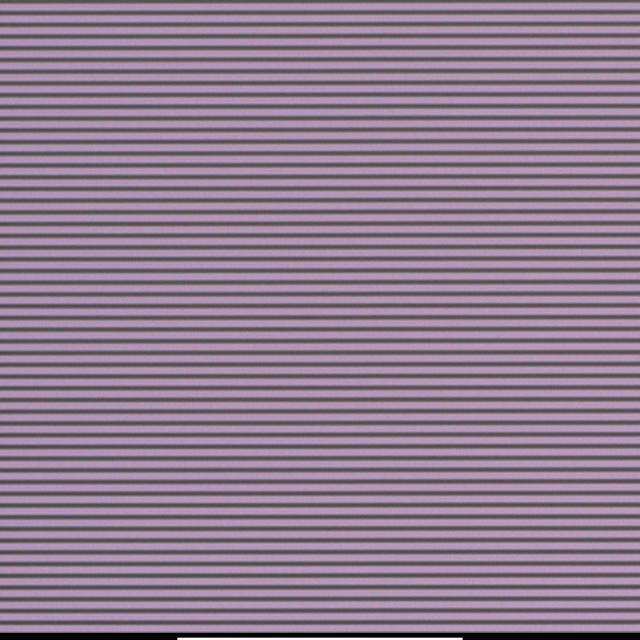nonvisual: (302, 311, 314, 324)
